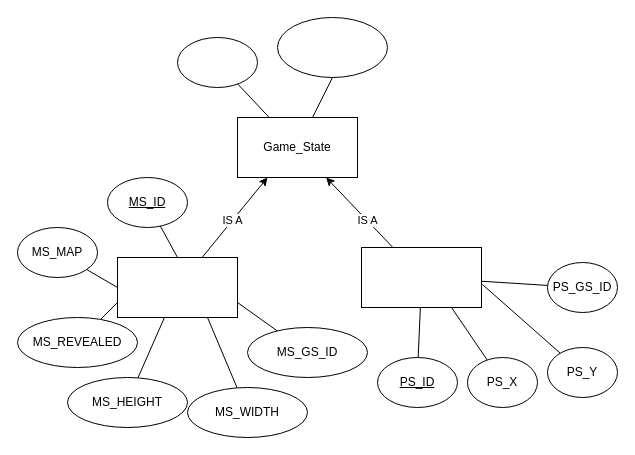
Some shapes in this 635 by 455 pixel diagram are drawn without their labels. The box of each missing label's shape, as (x1, y1, x2, y2) in pixels:
GS_ID: (176, 36, 258, 88)
GS_SAVEDTIME: (276, 16, 388, 78)
Map_State: (116, 256, 238, 318)
Player_State: (360, 246, 482, 308)
